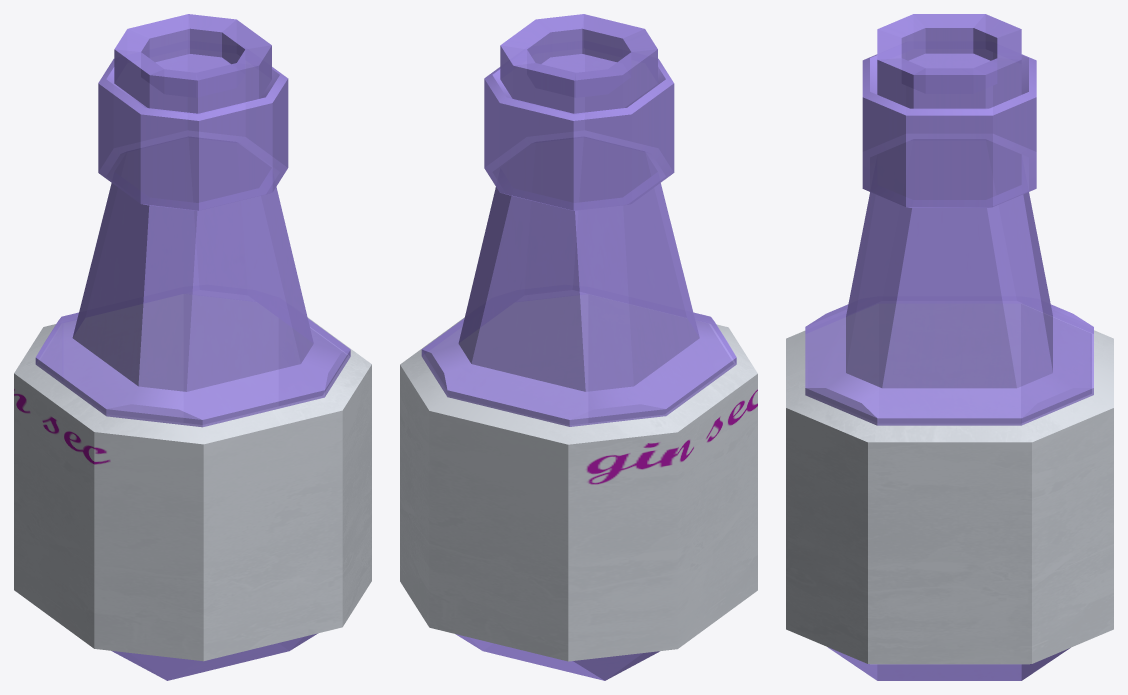
File: Gin.fbx
3 renders of one model, left to right at view 1: azimuth 30°, elevation 25°; view 2: azimuth 150°, elevation 25°; view 3: azimuth 270°, elevation 25°, orthographic. The views are drawn at different scales.
Visible parts, largest first — view 1: polySurface2; view 2: polySurface2; view 3: polySurface2.
Part boxes in pixels (<box>): polySurface2: <box>14,14,371,680</box>; polySurface2: <box>400,14,757,680</box>; polySurface2: <box>786,14,1113,680</box>.
Bounding box in the file's own units: 2.84 × 5.79 × 2.84.
Materials: 2 (2 with a texture image).
